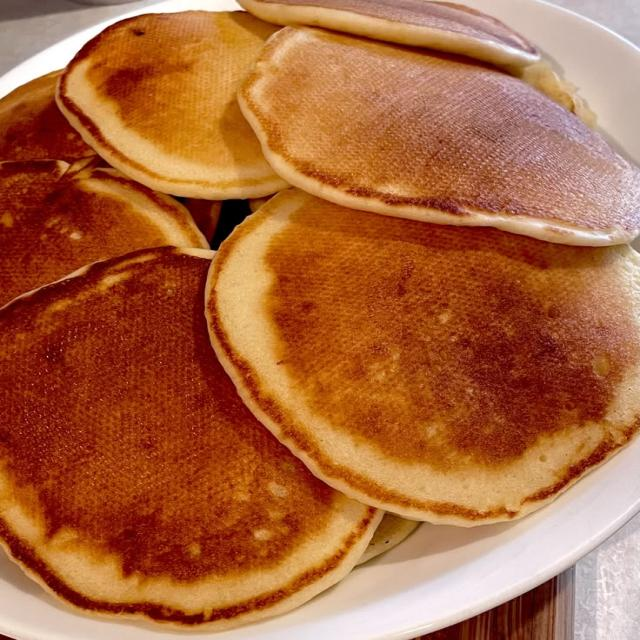pancake: (0, 247, 382, 629), (207, 191, 639, 526), (240, 27, 639, 245), (240, 0, 595, 127), (58, 12, 286, 199), (0, 160, 208, 305), (240, 0, 539, 68), (0, 71, 94, 162), (516, 60, 596, 128), (358, 513, 419, 565), (182, 199, 221, 242), (248, 194, 274, 212)
